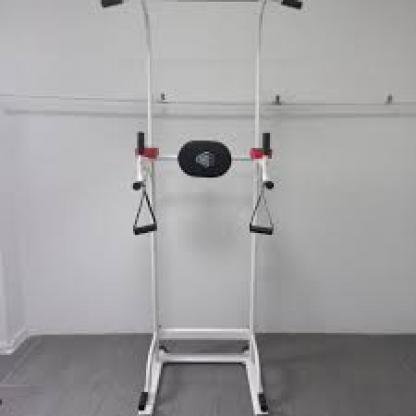chinning dipping: (102, 0, 301, 416)
